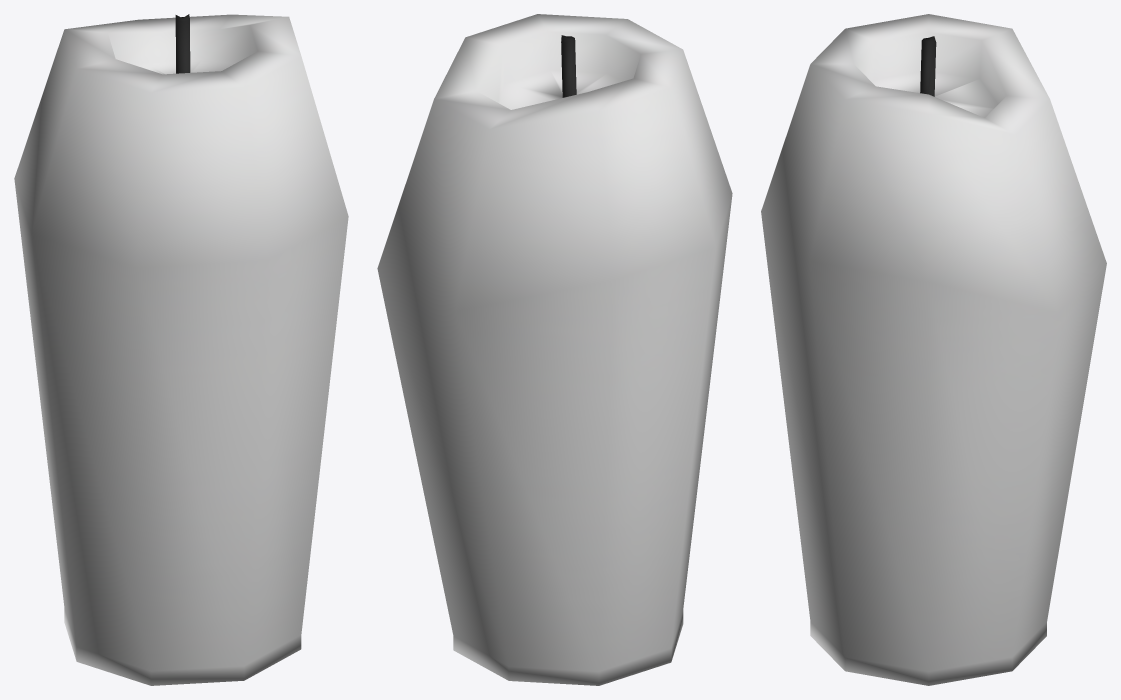
The model's file is candle.fbx.
3 renders of one model, left to right at view 1: azimuth 30°, elevation 25°; view 2: azimuth 150°, elevation 25°; view 3: azimuth 270°, elevation 25°, orthographic. The views are drawn at different scales.
Visible parts, largest first — view 1: Candle.001; view 2: Candle.001; view 3: Candle.001.
Boxes of the visible parts, x1,y1,x2,y2 form: Candle.001: (14,14,348,685); Candle.001: (377,14,732,685); Candle.001: (761,14,1106,685).
Size of the model in its own units: 10.74 by 21.24 by 11.14.
